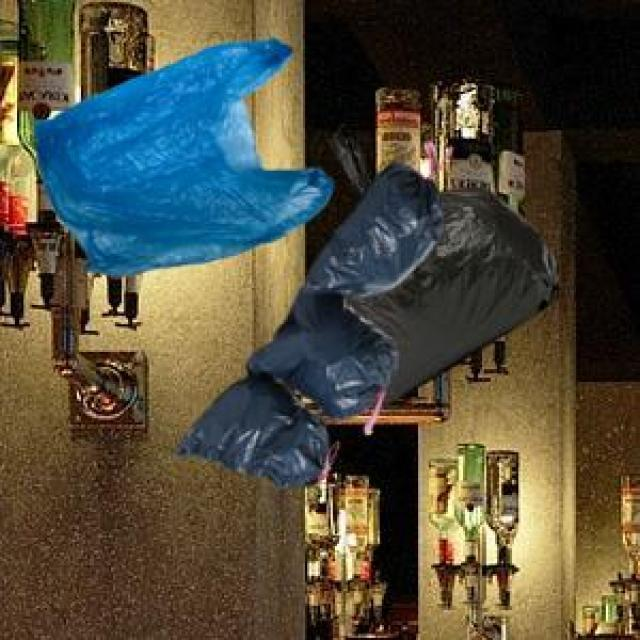miscellaneous trash: (171, 158, 440, 484), (326, 120, 557, 403)
